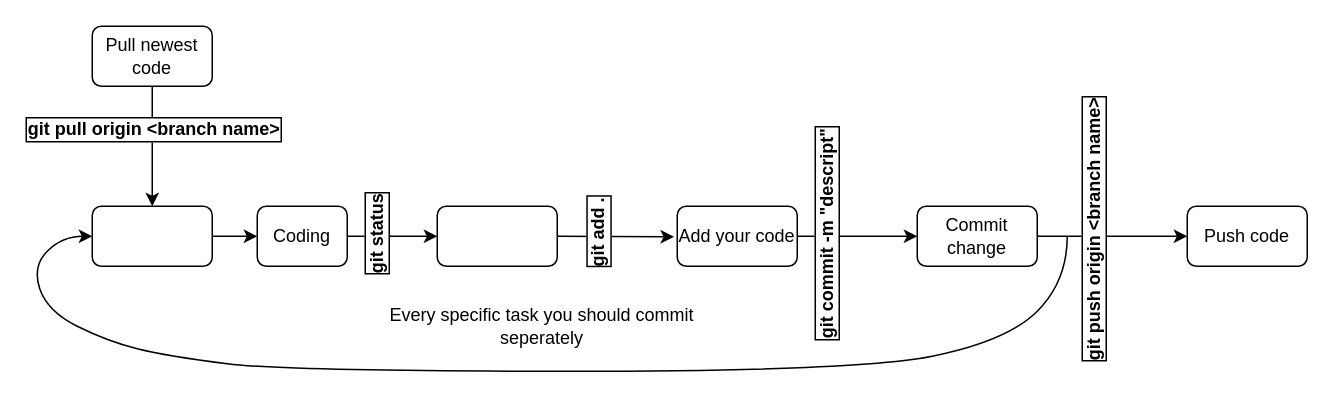
The diagram is 1334 pixels wide and 398 high, and some of its shapes have lost their labels. Here are the shapes that lost their labels. From the top down, the box of each, then its label:
(91, 205, 212, 266): One specific task
(436, 205, 557, 266): Check status
